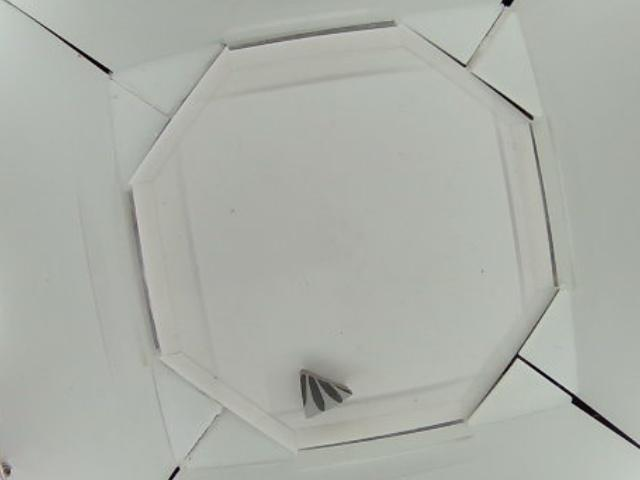China: (300, 368, 352, 418)
